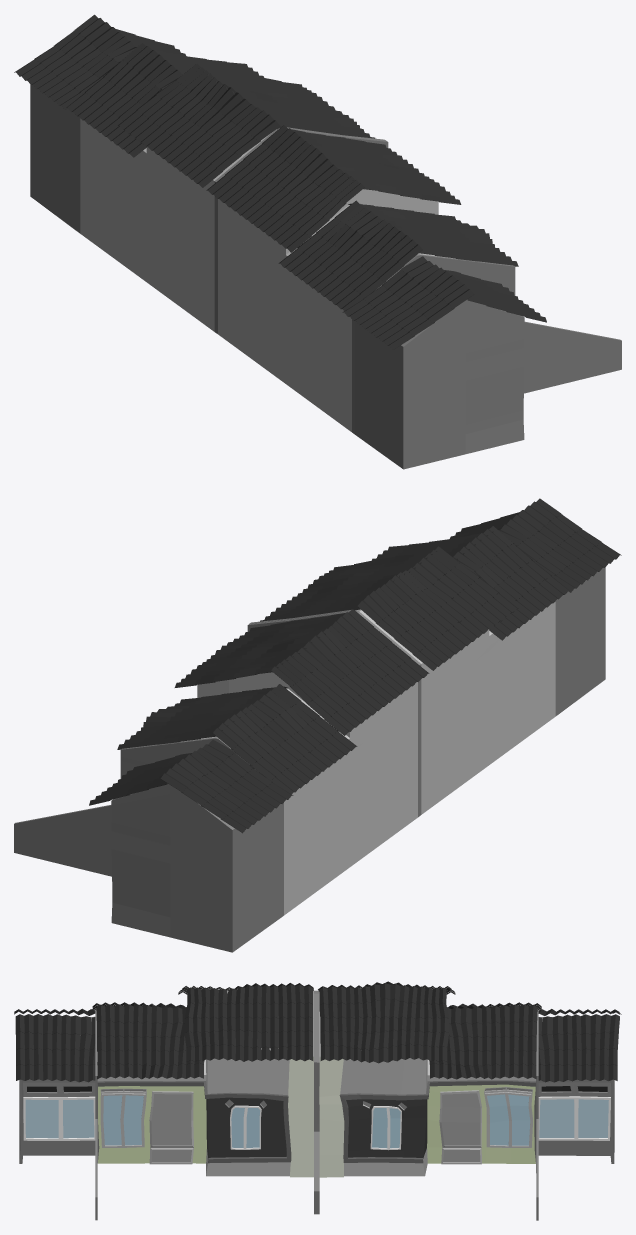
Rendered from rumah perumahan 2.fbx.
3 renders of one model, top to bottom at view 1: azimuth 30°, elevation 25°; view 2: azimuth 150°, elevation 25°; view 3: azimuth 270°, elevation 25°, orthographic. The views are drawn at different scales.
Visible parts, largest first — view 1: Cube, Cube.002, Cube.003, Cube.001; view 2: Cube.001, Cube.003, Cube.002, Cube; view 3: Cube, Cube.001, Cube.003, Cube.002.
Boxes of the visible parts, x1,y1,x2,y2 form: Cube: (216,128,621,469); Cube.002: (206,125,546,349); Cube.003: (14,14,375,187); Cube.001: (30,84,385,332); Cube.001: (14,611,419,952); Cube.003: (89,609,429,833); Cube.002: (260,498,621,670); Cube: (249,567,605,815); Cube: (19,990,316,1220); Cube.001: (316,990,614,1220); Cube.003: (318,981,621,1082); Cube.002: (14,983,313,1082).
Size of the model in its own units: 937 by 634 by 2202.
